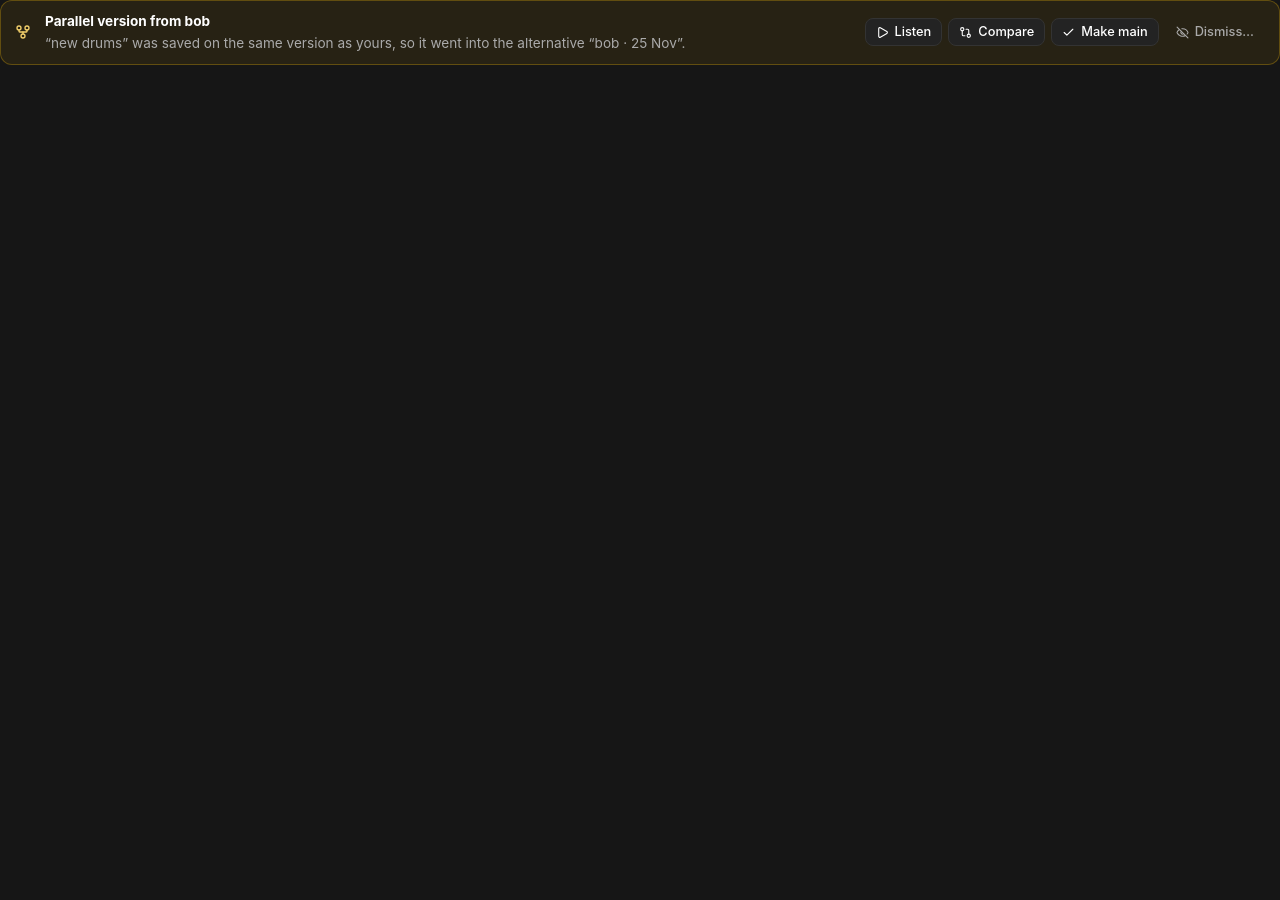
Test: ParallelVersionBanner › Dismiss… › needs a reason, then dismisses with it and reloads
This screenshot has width=1280, height=900.
Later steps or results of the test are not shown.
Click the button "Dismiss…" at (1215, 32), box [1165,18,1265,46]
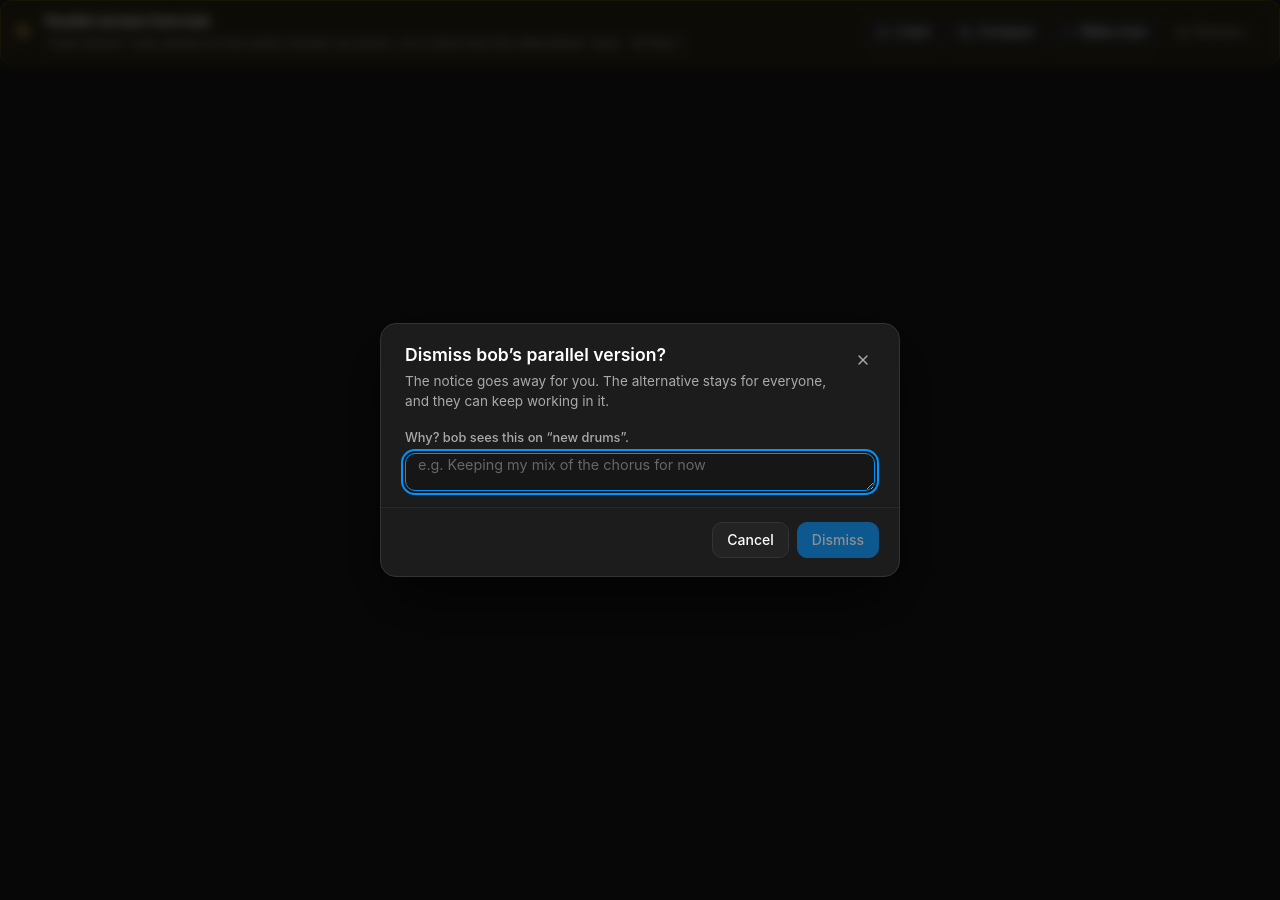
Expected: the dialog "Dismiss bob’s parallel version?" shows "The alternative stays for everyone", [405,373,826,409]
Expected: the button "Dismiss" is disabled, [797,522,879,558]
Type "  Keeping my chorus  " into the text box labelled "Why? bob sees this on “new drums”." at (640, 472), box [405,453,875,491]
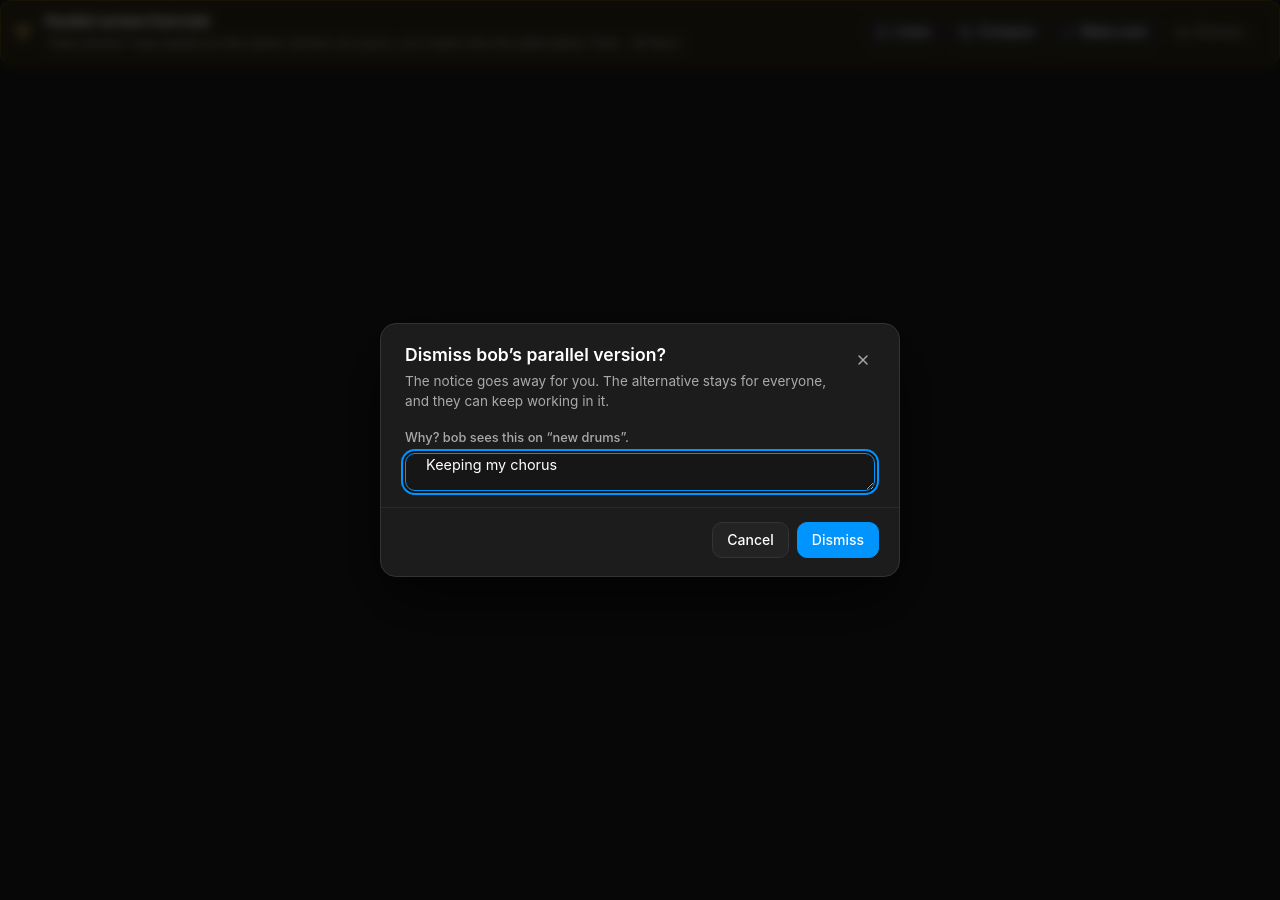
Expected: the button "Dismiss" is enabled, [797,522,879,558]
